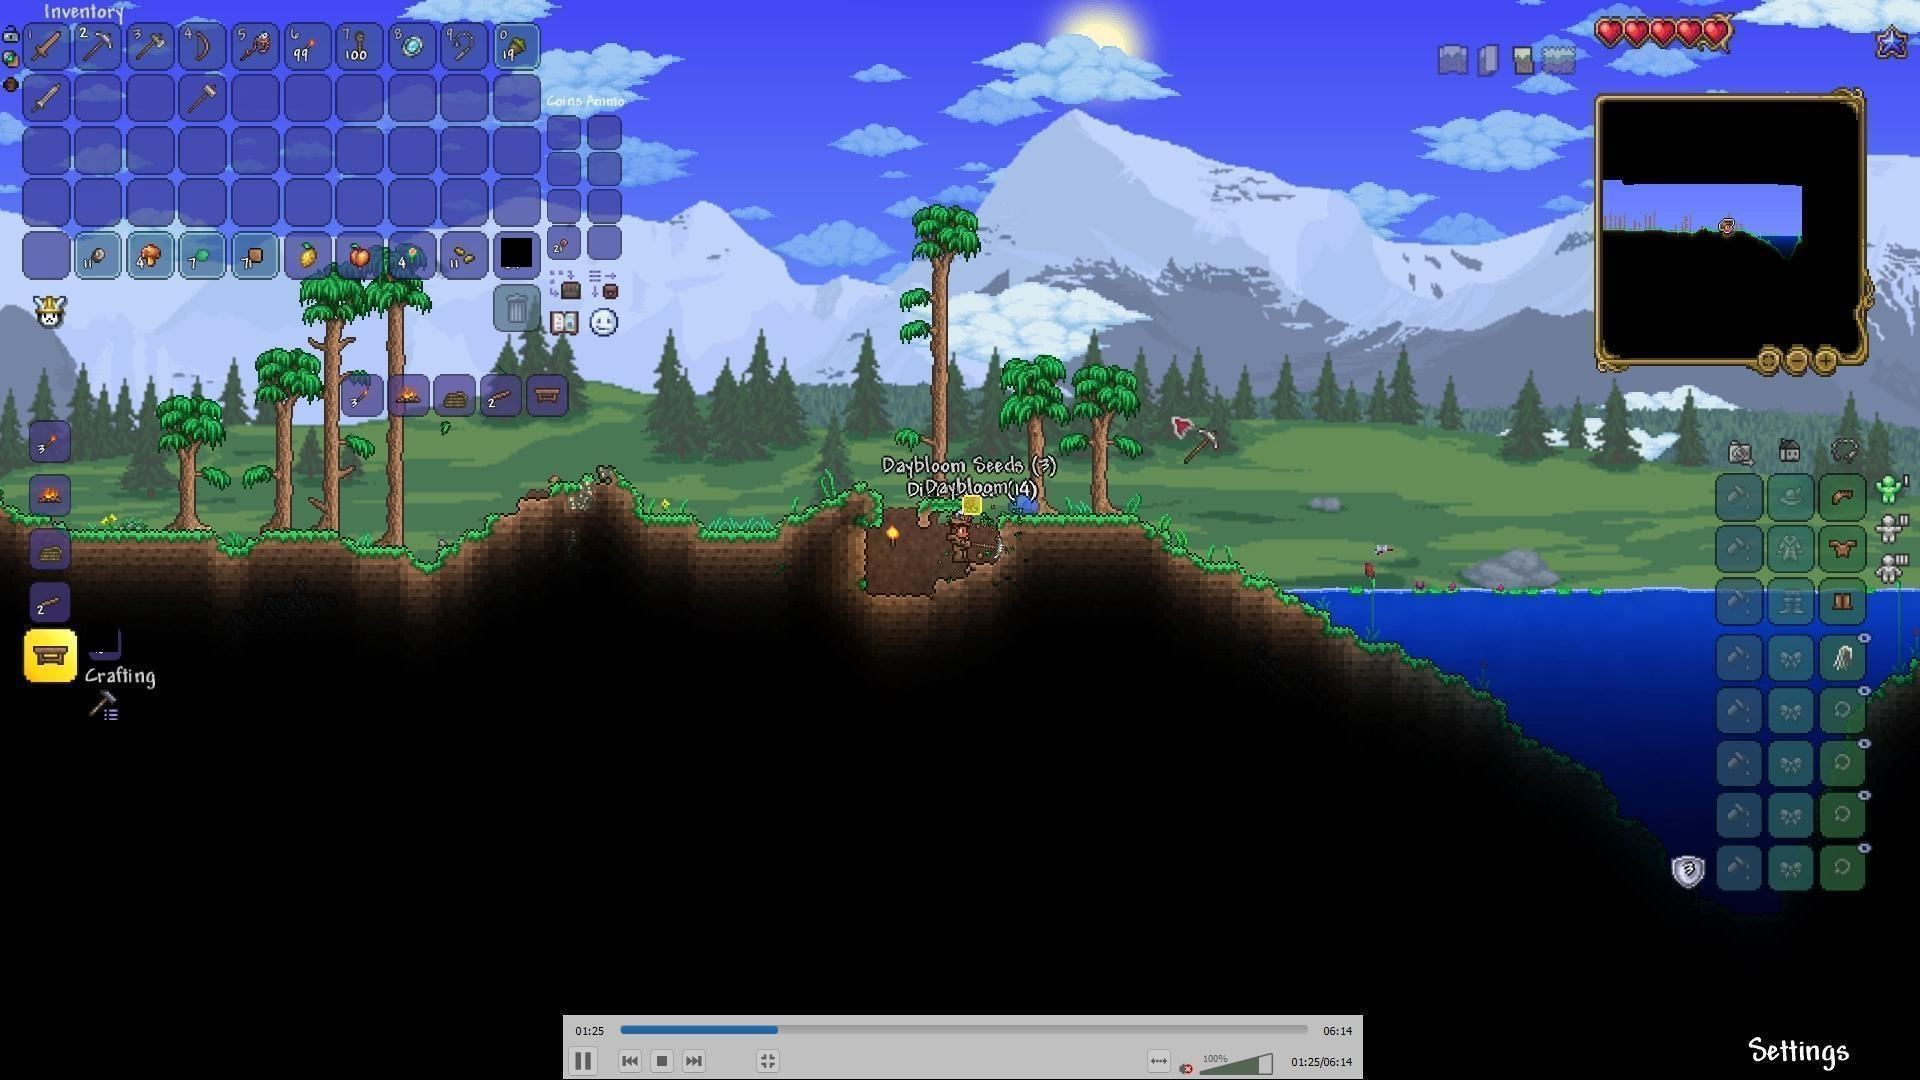breastplate: (1826, 537, 1857, 559)
helmet: (1826, 480, 1862, 512)
legs: (1830, 588, 1855, 617)
slime: (1007, 483, 1042, 520)
workbench: (33, 642, 66, 670)
